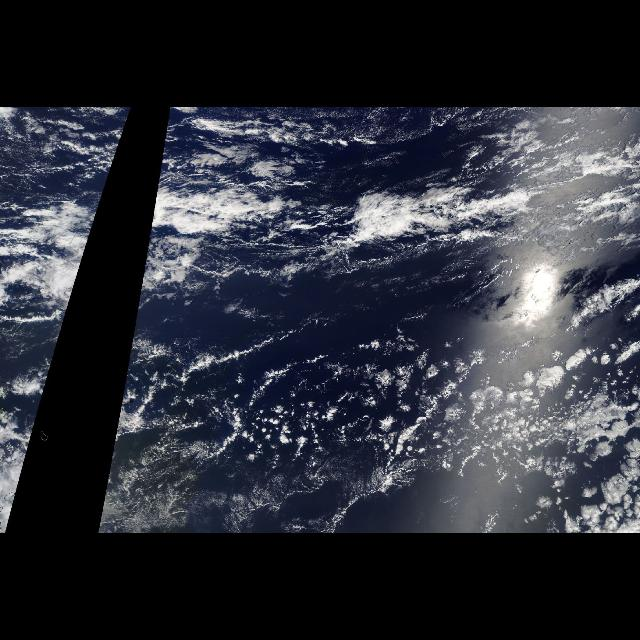Fish: (141, 172, 575, 296), (56, 172, 112, 296)
Flower: (180, 324, 640, 530)
Gravel: (245, 352, 640, 472)
